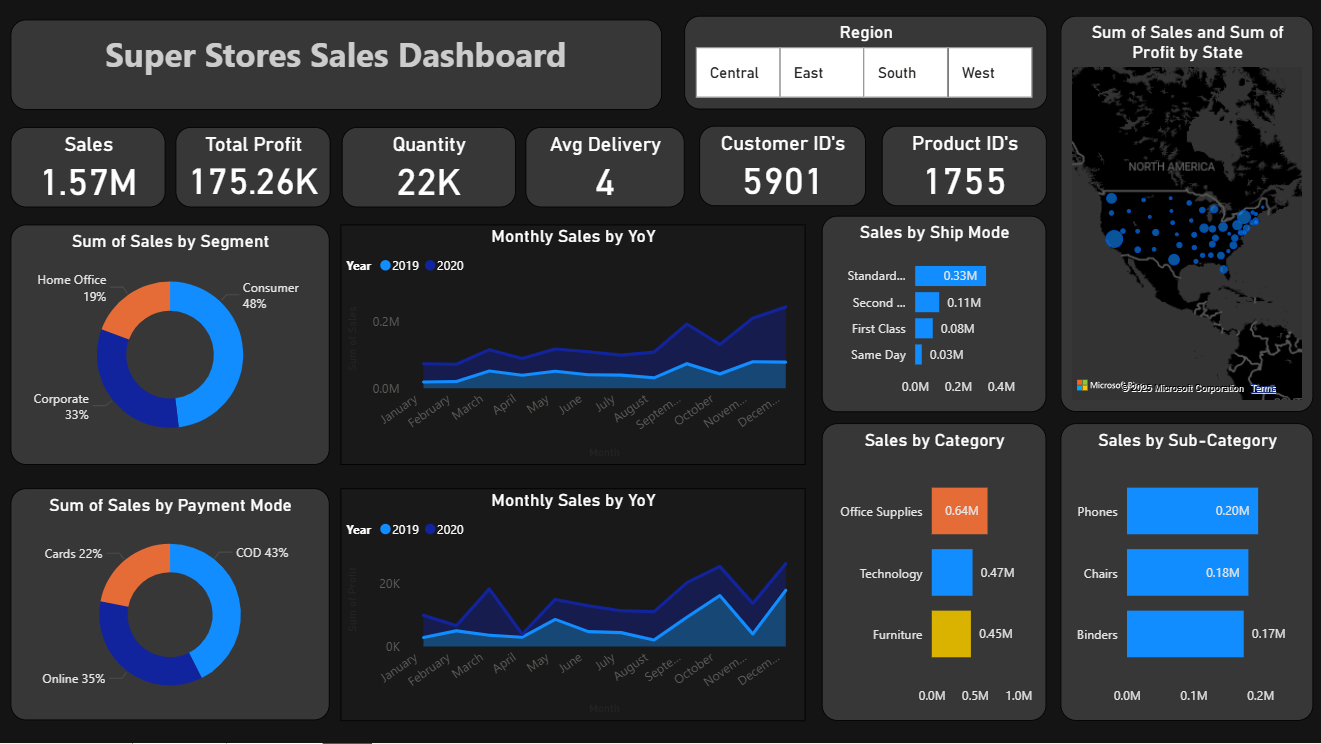

Layout of this report page (visuals, bound fields, positions):
{"tool":"powerbi","page":{"name":"Page 1","canvas":[1280,720],"ordinal":0},"visuals":[{"type":"clusteredBarChart","title":"Sales by Category","fields":{"Category":["SuperStores_Sales.Category"],"Y":["Sum(SuperStores_Sales.Sales)"]},"box":[795.2,411.9,216.7,286.9],"z":0},{"type":"clusteredBarChart","title":"Sales by Sub-Category","fields":{"Category":["SuperStores_Sales.Sub-Category"],"Y":["Sum(SuperStores_Sales.Sales)"]},"box":[1025,411.9,244,286.9],"z":1000},{"type":"clusteredBarChart","title":"Sales by Ship Mode","fields":{"Category":["SuperStores_Sales.Ship Mode"],"Y":["Sum(SuperStores_Sales.Sales)"]},"box":[795.2,210.7,216.7,189.3],"z":2000},{"type":"stackedAreaChart","title":"Monthly Sales by YoY","fields":{"Y":["Sum(SuperStores_Sales.Sales)"],"Category":["SuperStores_Sales.Order Date.Variation.Date Hierarchy.Month","SuperStores_Sales.Order Date.Variation.Date Hierarchy.Day"],"Series":["SuperStores_Sales.Order Date.Variation.Date Hierarchy.Year"]},"box":[331,219,448.8,232.1],"z":3000},{"type":"map","fields":{"Category":["SuperStores_Sales.State"],"Size":["Sum(SuperStores_Sales.Sales)"]},"box":[1025,17.9,244,382.1],"z":4000},{"type":"donutChart","fields":{"Category":["SuperStores_Sales.Segment"],"Y":["Sum(SuperStores_Sales.Sales)"]},"box":[12.1,219.6,307.6,231.6],"z":5000},{"type":"stackedAreaChart","title":"Monthly Sales by YoY","fields":{"Category":["SuperStores_Sales.Order Date.Variation.Date Hierarchy.Month","SuperStores_Sales.Order Date.Variation.Date Hierarchy.Day"],"Series":["SuperStores_Sales.Order Date.Variation.Date Hierarchy.Year"],"Y":["Sum(SuperStores_Sales.Profit)"]},"box":[331,473.8,448.8,225],"z":6000},{"type":"donutChart","fields":{"Category":["SuperStores_Sales.Payment Mode"],"Y":["Sum(SuperStores_Sales.Sales)"]},"box":[12.1,474.1,307.6,224.4],"z":7000},{"type":"advancedSlicerVisual","fields":{"Values":["SuperStores_Sales.Region"]},"box":[661.9,17.9,350,90.5],"z":8000},{"type":"textbox","box":[12.1,21.7,628.6,86.9],"z":9000},{"type":"card","title":"Sales","fields":{"Values":["Sum(SuperStores_Sales.Sales)"]},"box":[12.1,125.5,149.6,77.2],"z":10000},{"type":"card","title":"Quantity","fields":{"Values":["Sum(SuperStores_Sales.Quantity)"]},"box":[331.8,125.5,167.7,77.2],"z":11000},{"type":"card","title":"Total Profit","fields":{"Values":["Sum(SuperStores_Sales.Profit)"]},"box":[171.3,125.5,149.6,77.2],"z":12000},{"type":"card","title":"Avg Delivery","fields":{"Values":["Avg(SuperStores_Sales.Avg Delivery)"]},"box":[509.1,125.5,153.2,77.2],"z":13000},{"type":"card","title":"Customer ID''s","fields":{"Values":["CountNonNull(SuperStores_Sales.Customer ID)"]},"box":[676.8,124.3,160.5,77.2],"z":14000},{"type":"card","title":"Product ID''s","fields":{"Values":["Count(SuperStores_Sales.Product ID)"]},"box":[852.4,123.8,159.5,77.4],"z":15000}]}

Visuals, with their boxes in screenshot pixels (x1, y1, x2, y2), scaled from the page's 1280x720 canvas onto the 1321x744 screenshot:
"Sales by Category" clusteredBarChart: 821/426/1044/722
"Sales by Sub-Category" clusteredBarChart: 1058/426/1310/722
"Sales by Ship Mode" clusteredBarChart: 821/218/1044/413
"Monthly Sales by YoY" stackedAreaChart: 342/226/805/466
map - SuperStores_Sales.State x Sum(SuperStores_Sales.Sales): 1058/18/1310/413
donutChart - SuperStores_Sales.Segment x Sum(SuperStores_Sales.Sales): 12/227/330/466
"Monthly Sales by YoY" stackedAreaChart: 342/490/805/722
donutChart - SuperStores_Sales.Payment Mode x Sum(SuperStores_Sales.Sales): 12/490/330/722
advancedSlicerVisual - SuperStores_Sales.Region: 683/18/1044/112
textbox: 12/22/661/112
"Sales" card: 12/130/167/209
"Quantity" card: 342/130/515/209
"Total Profit" card: 177/130/331/209
"Avg Delivery" card: 525/130/684/209
"Customer ID''s" card: 698/128/864/208
"Product ID''s" card: 880/128/1044/208
